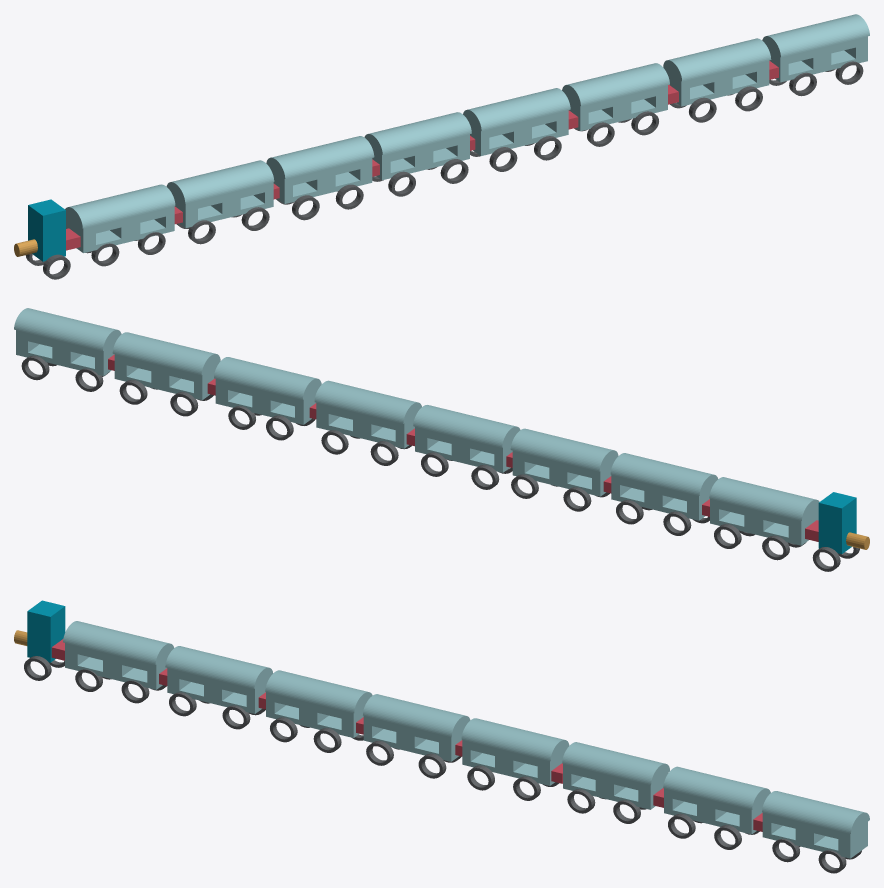
Rendered from Glorious Sango-Snicket.glb.
3 views of the same model, one above another, from view 1: azimuth 30°, elevation 25°; view 2: azimuth 150°, elevation 25°; view 3: azimuth 330°, elevation 25° (orthographic).
Parts seen in each view (by area): view 1: Mesh_Mesh_head_geo.001_lambert2SG.001; view 2: Mesh_Mesh_head_geo.001_lambert2SG.001; view 3: Mesh_Mesh_head_geo.001_lambert2SG.001.
Boxes of the visible parts, x1=… form: Mesh_Mesh_head_geo.001_lambert2SG.001: x1=14, y1=14, x2=869, y2=279; Mesh_Mesh_head_geo.001_lambert2SG.001: x1=14, y1=308, x2=869, y2=571; Mesh_Mesh_head_geo.001_lambert2SG.001: x1=14, y1=600, x2=869, y2=873.
Bounding box in the file's own units: 692 × 51 × 36.
